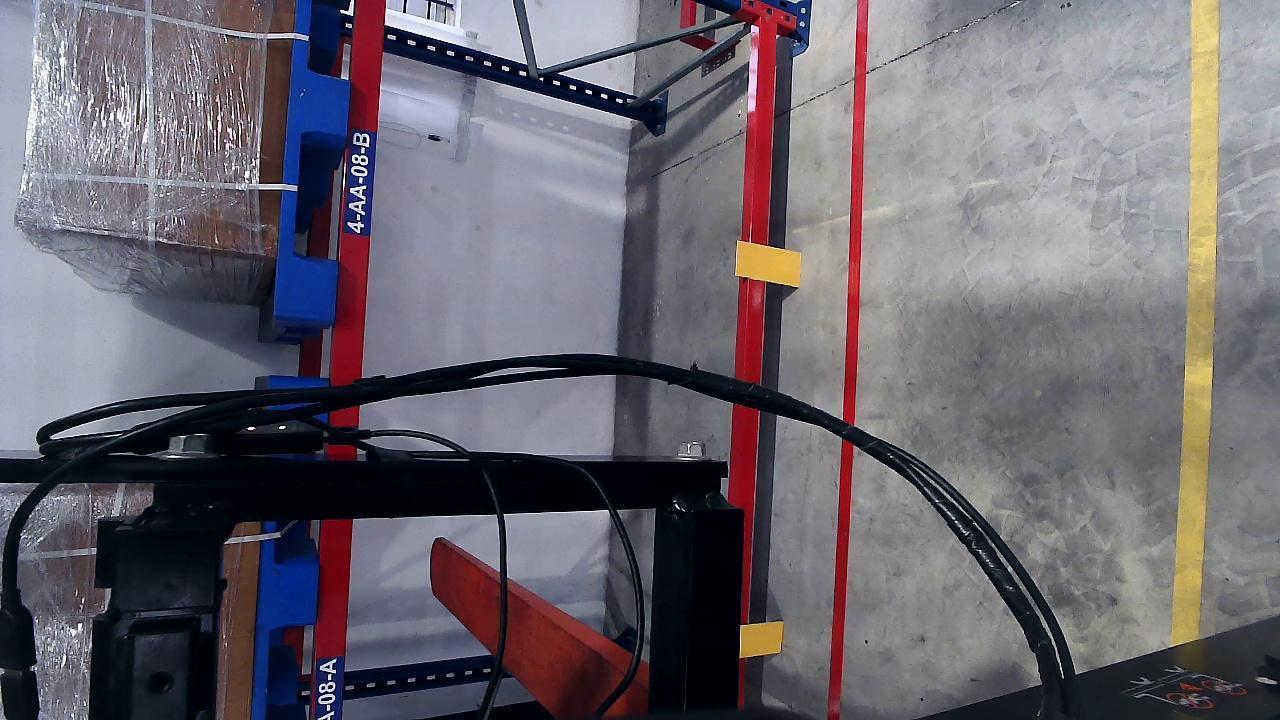red_line: (837, 7, 866, 602)
yellow_line: (1172, 61, 1221, 651)
